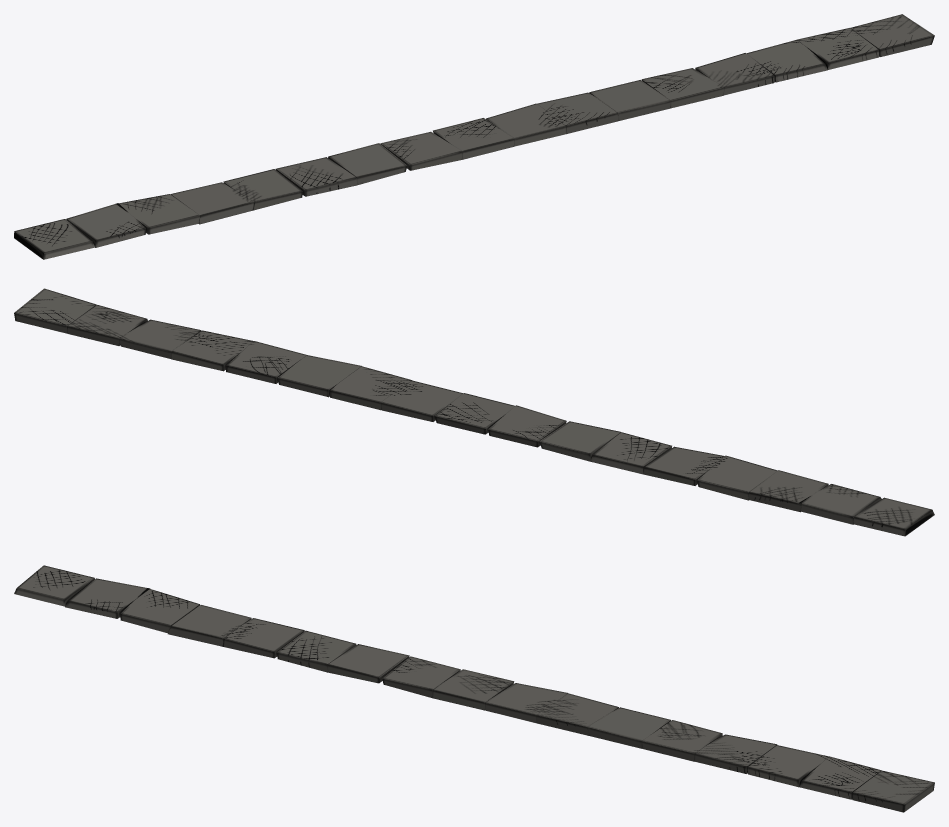
File: PavementPiece_02.fbx
3 views of the same model, one above another, from view 1: azimuth 30°, elevation 25°; view 2: azimuth 150°, elevation 25°; view 3: azimuth 330°, elevation 25° (orthographic).
Visible parts, largest first — view 1: PavementPiece_02; view 2: PavementPiece_02; view 3: PavementPiece_02.
Part boxes in pixels (box(x1,y1,x2,y2)): PavementPiece_02: box(14, 14, 934, 259); PavementPiece_02: box(14, 288, 934, 536); PavementPiece_02: box(14, 565, 934, 812).
Bounding box in the file's own units: 1728 × 19.04 × 108.
